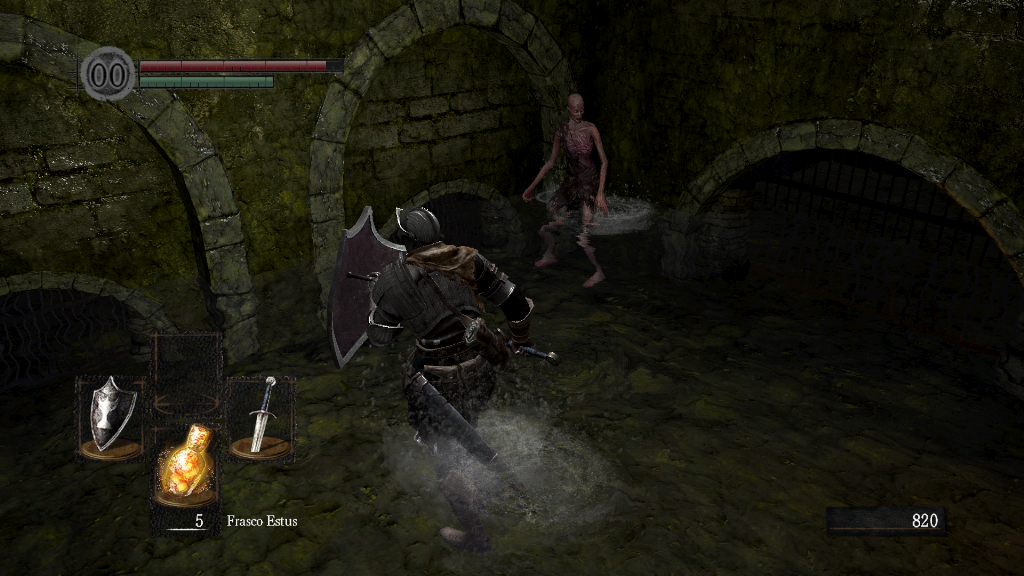health: (138, 58, 343, 71)
hollow: (520, 94, 611, 290)
humanity: (80, 45, 136, 102)
player: (325, 203, 563, 551)
souls: (825, 506, 945, 536)
stamina: (138, 74, 274, 88)
